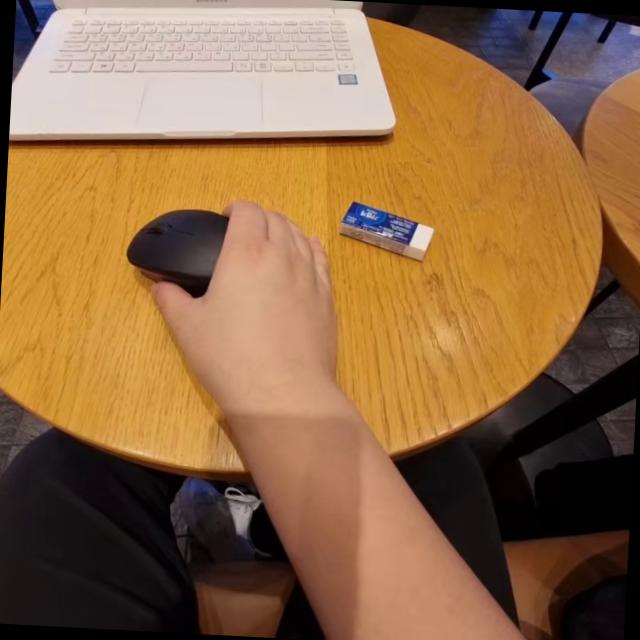eraser: (339, 202, 458, 284)
grab_mouse: (116, 184, 341, 409)
hand: (179, 196, 354, 416)
mouse: (110, 188, 246, 299)
